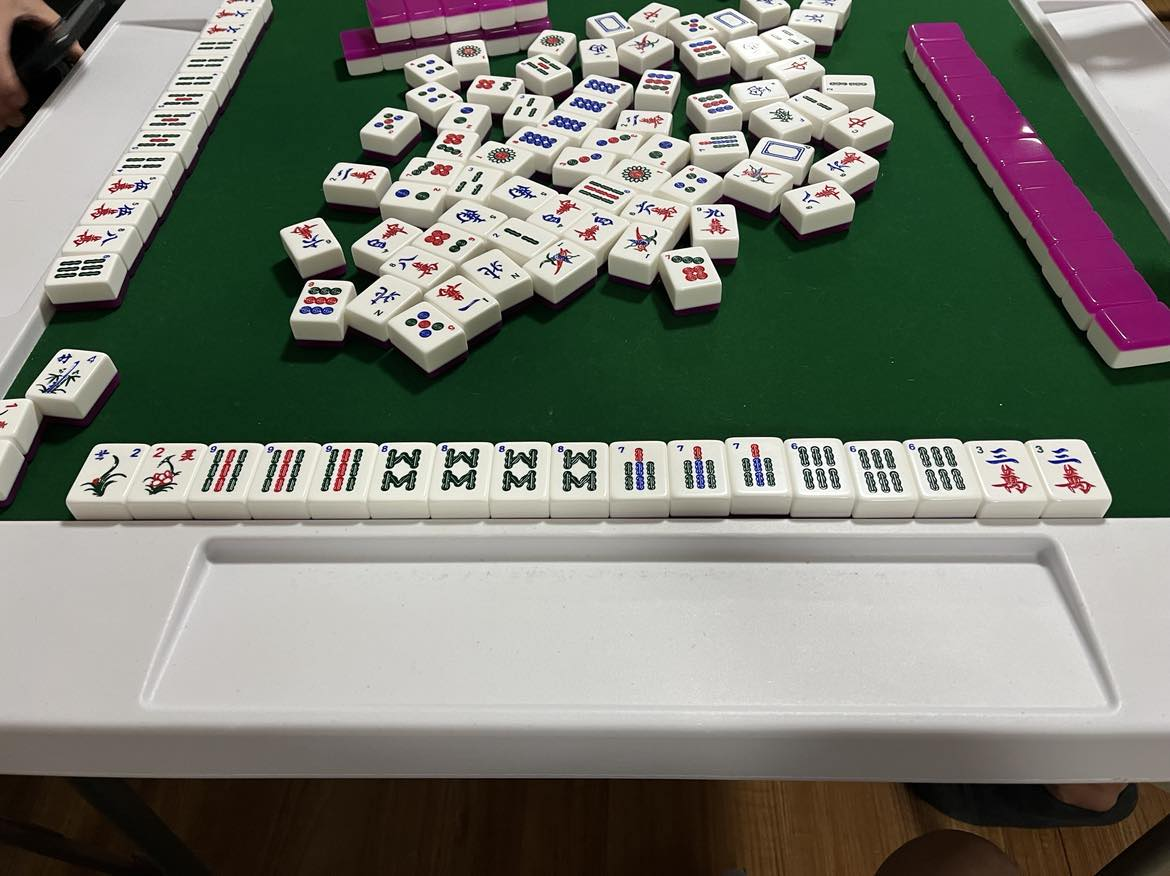bamboo-eight: (377, 442, 428, 500), (554, 443, 606, 497), (497, 442, 546, 498), (439, 444, 487, 500)
bamboo-nine: (201, 443, 254, 499), (319, 442, 367, 503), (260, 444, 310, 501)
bamboo-seven: (728, 439, 784, 494), (672, 439, 726, 494), (614, 444, 665, 495)
bamboo-six: (846, 440, 905, 495), (907, 439, 967, 493), (786, 439, 842, 496)
character-three: (1034, 442, 1098, 500), (969, 441, 1031, 498)
flower-blue_two: (78, 444, 140, 497)
flower-red_two: (142, 445, 198, 498)
